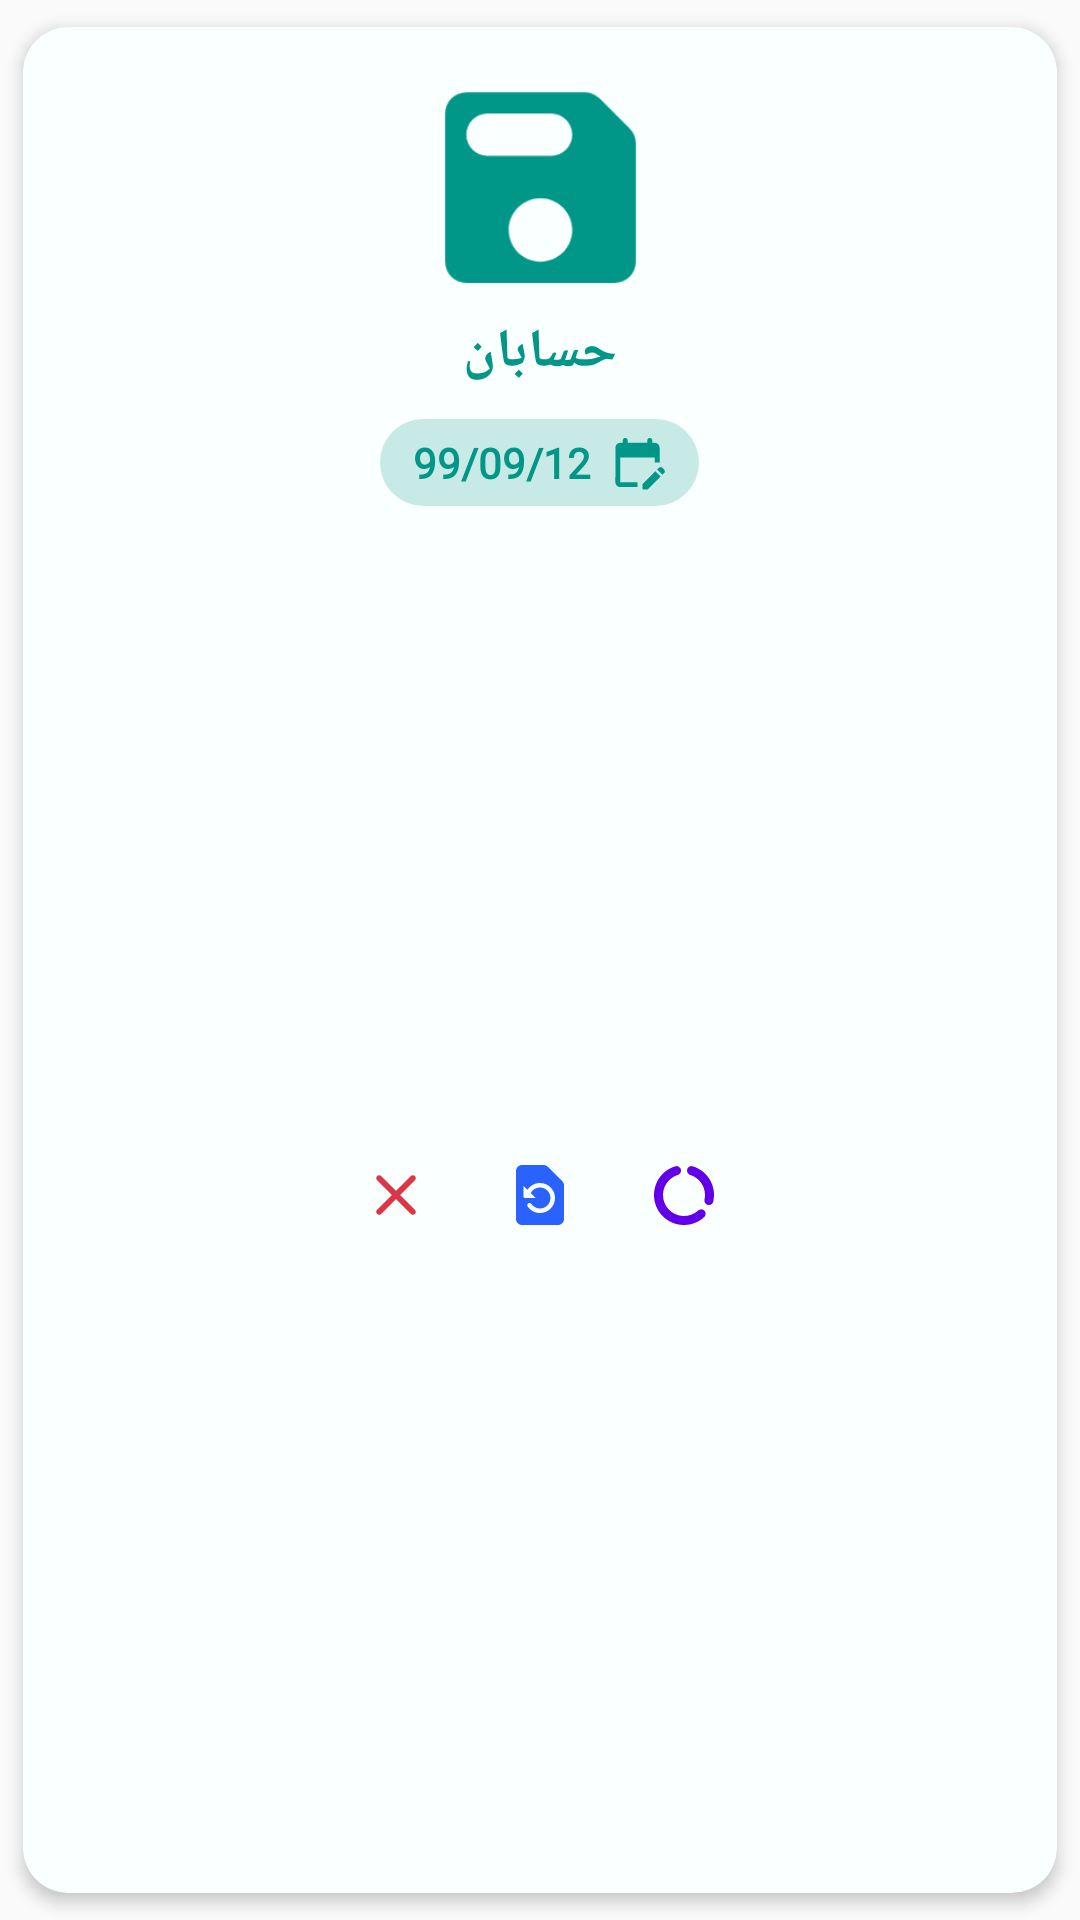

Screen size 1080px x 1920px. Icon name, then its box in pixels as (x1,y1,x2,y2):
delete choice: (376,1175,416,1215)
restore backup: (516,1165,564,1225)
search by start time: (615,438,665,490)
